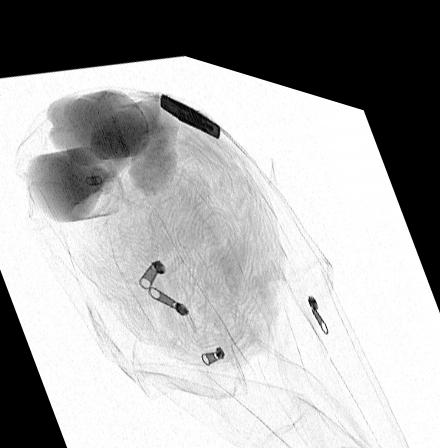Lighter: (158, 84, 221, 127)
